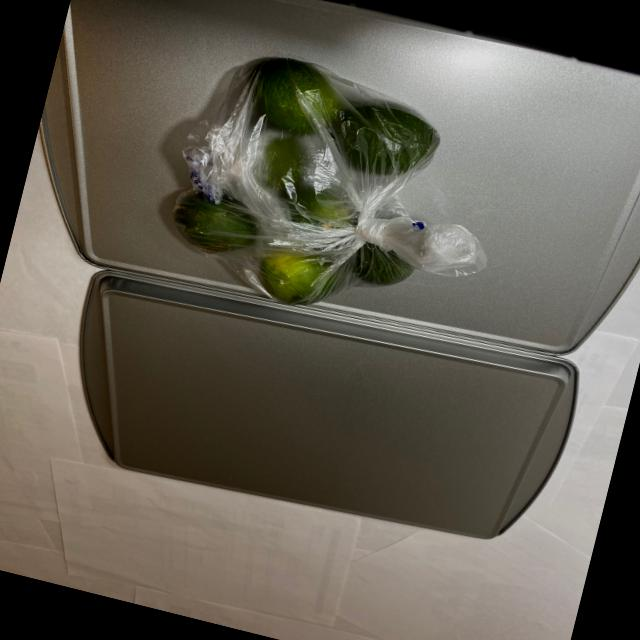lemon: (148, 44, 467, 332)
